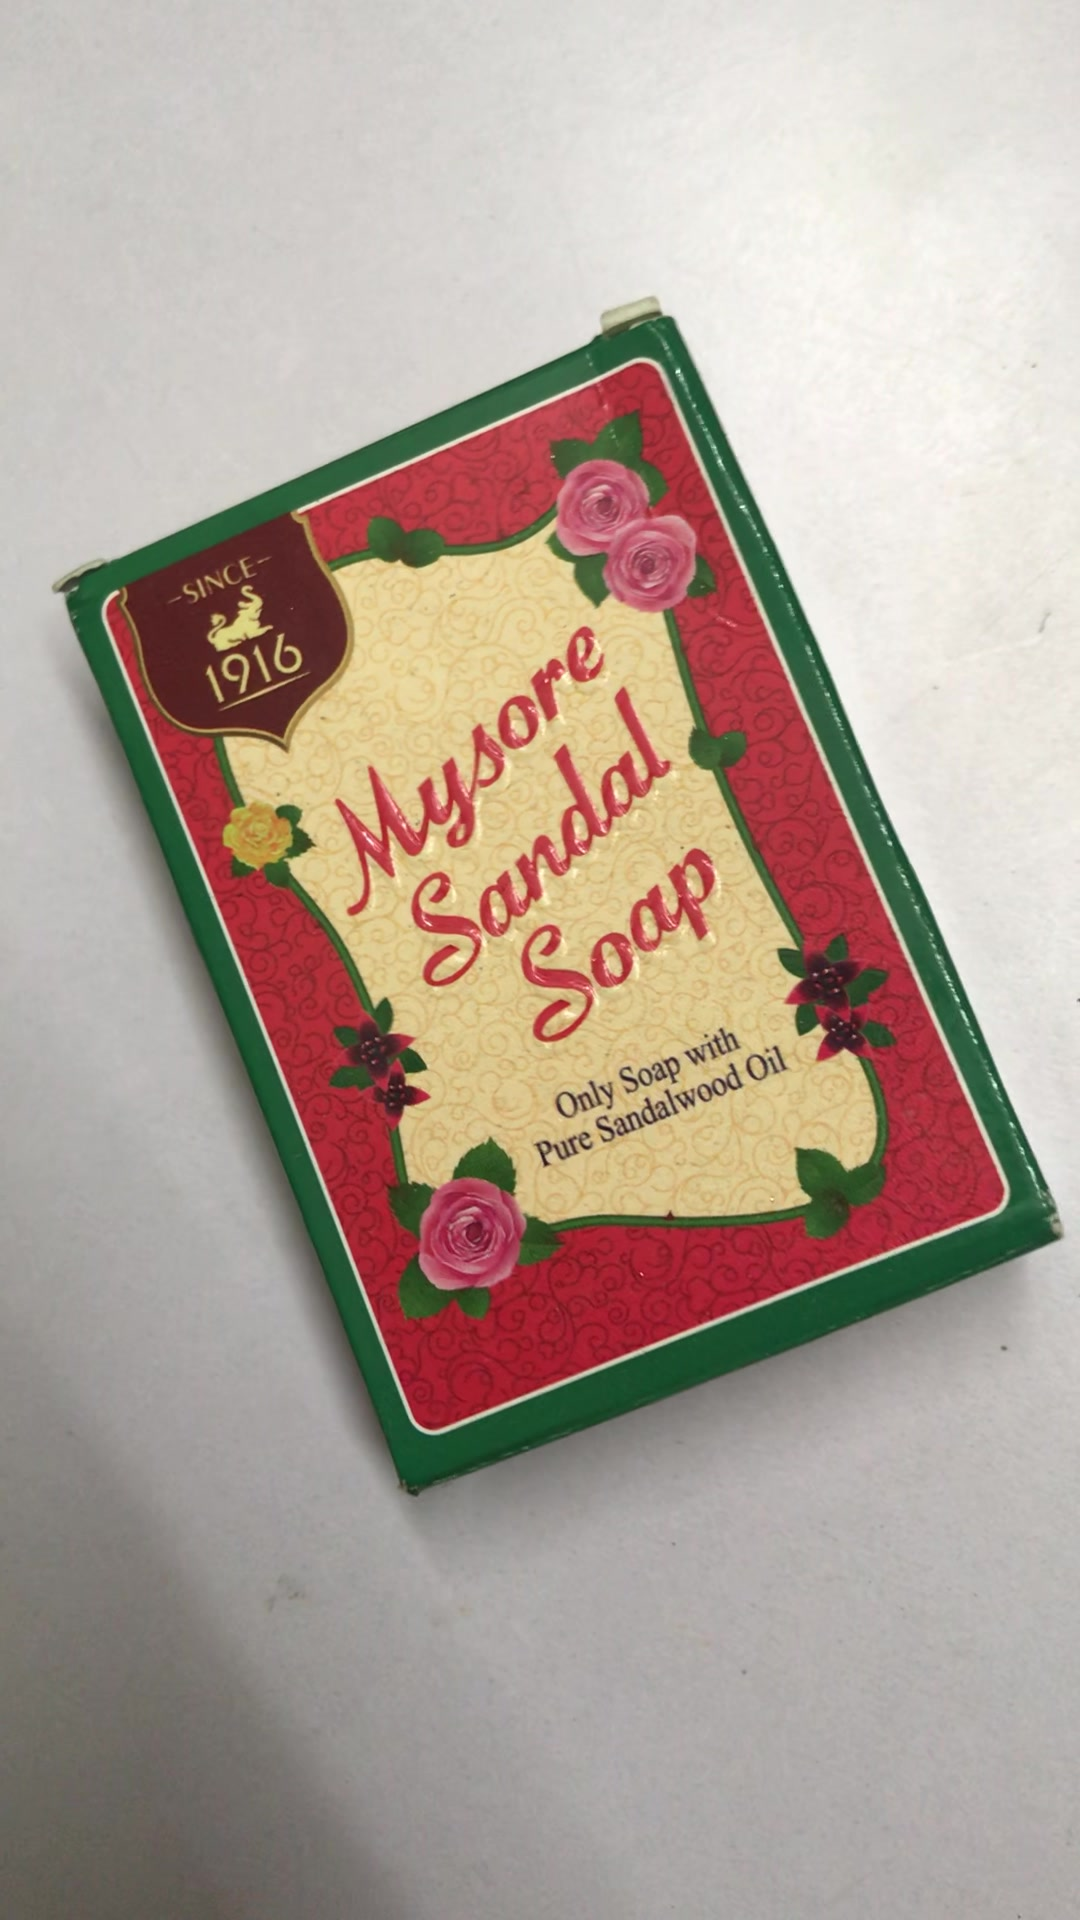mysore sandal soap: (57, 309, 1069, 1495)
